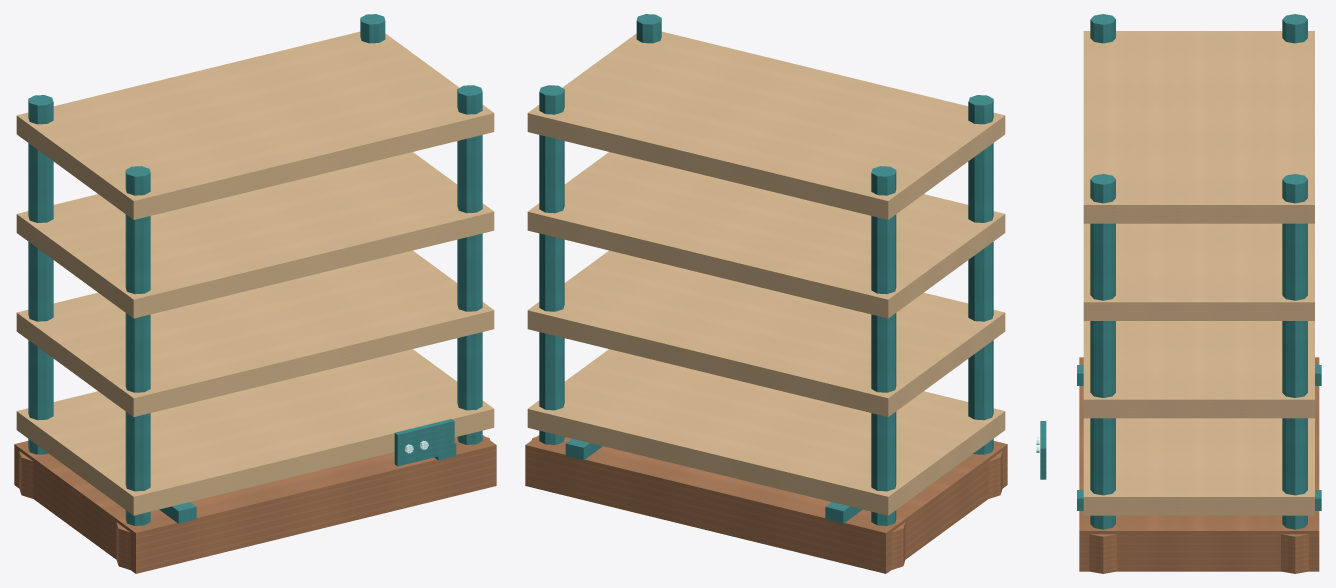
The model's file is atlas100-s100-a06.glb.
3 renders of one model, left to right at view 1: azimuth 30°, elevation 25°; view 2: azimuth 150°, elevation 25°; view 3: azimuth 270°, elevation 25°, orthographic.
Parts seen in each view (by area): view 1: atlas100-s100-a06:part-014, atlas100-s100-a06:part-012, atlas100-s100-a06:part-013, atlas100-s100-a06:part-011, atlas100-s100-a06:part-000, atlas100-s100-a06:part-005, atlas100-s100-a06:part-009, atlas100-s100-a06:part-003, atlas100-s100-a06:part-015, atlas100-s100-a06:part-007, atlas100-s100-a06:part-006, atlas100-s100-a06:part-004; view 2: atlas100-s100-a06:part-014, atlas100-s100-a06:part-012, atlas100-s100-a06:part-013, atlas100-s100-a06:part-011, atlas100-s100-a06:part-000, atlas100-s100-a06:part-003, atlas100-s100-a06:part-007, atlas100-s100-a06:part-005, atlas100-s100-a06:part-009, atlas100-s100-a06:part-004, atlas100-s100-a06:part-006; view 3: atlas100-s100-a06:part-014, atlas100-s100-a06:part-012, atlas100-s100-a06:part-011, atlas100-s100-a06:part-013, atlas100-s100-a06:part-000, atlas100-s100-a06:part-007, atlas100-s100-a06:part-009, atlas100-s100-a06:part-008, atlas100-s100-a06:part-010, atlas100-s100-a06:part-005, atlas100-s100-a06:part-003, atlas100-s100-a06:part-015.
Boxes of the visible parts, <box> form: atlas100-s100-a06:part-014: <box>16,31,494,219</box>; atlas100-s100-a06:part-012: <box>16,250,494,416</box>; atlas100-s100-a06:part-013: <box>16,152,494,318</box>; atlas100-s100-a06:part-011: <box>16,349,494,515</box>; atlas100-s100-a06:part-000: <box>14,435,496,573</box>; atlas100-s100-a06:part-005: <box>125,166,150,525</box>; atlas100-s100-a06:part-009: <box>457,85,482,444</box>; atlas100-s100-a06:part-003: <box>28,95,53,454</box>; atlas100-s100-a06:part-015: <box>394,419,454,466</box>; atlas100-s100-a06:part-007: <box>360,14,385,43</box>; atlas100-s100-a06:part-006: <box>116,522,130,570</box>; atlas100-s100-a06:part-004: <box>19,451,33,498</box>; atlas100-s100-a06:part-014: <box>527,31,1005,219</box>; atlas100-s100-a06:part-012: <box>527,250,1005,416</box>; atlas100-s100-a06:part-013: <box>527,152,1005,318</box>; atlas100-s100-a06:part-011: <box>527,349,1005,515</box>; atlas100-s100-a06:part-000: <box>525,435,1007,573</box>; atlas100-s100-a06:part-003: <box>871,166,896,525</box>; atlas100-s100-a06:part-007: <box>539,85,564,444</box>; atlas100-s100-a06:part-005: <box>968,95,993,454</box>; atlas100-s100-a06:part-009: <box>636,14,661,43</box>; atlas100-s100-a06:part-004: <box>891,522,905,570</box>; atlas100-s100-a06:part-006: <box>988,451,1002,498</box>; atlas100-s100-a06:part-014: <box>1083,31,1314,223</box>; atlas100-s100-a06:part-012: <box>1083,321,1314,418</box>; atlas100-s100-a06:part-011: <box>1083,418,1314,515</box>; atlas100-s100-a06:part-013: <box>1083,223,1314,320</box>; atlas100-s100-a06:part-000: <box>1079,357,1319,571</box>; atlas100-s100-a06:part-007: <box>1282,174,1307,529</box>; atlas100-s100-a06:part-009: <box>1090,174,1115,529</box>; atlas100-s100-a06:part-008: <box>1281,534,1309,573</box>; atlas100-s100-a06:part-010: <box>1089,534,1117,573</box>; atlas100-s100-a06:part-005: <box>1090,14,1115,43</box>; atlas100-s100-a06:part-003: <box>1282,14,1307,43</box>; atlas100-s100-a06:part-015: <box>1040,421,1046,479</box>.
Size of the model in its own units: 2.47 by 2.48 by 1.66.
Materials: 4 (4 with a texture image).
